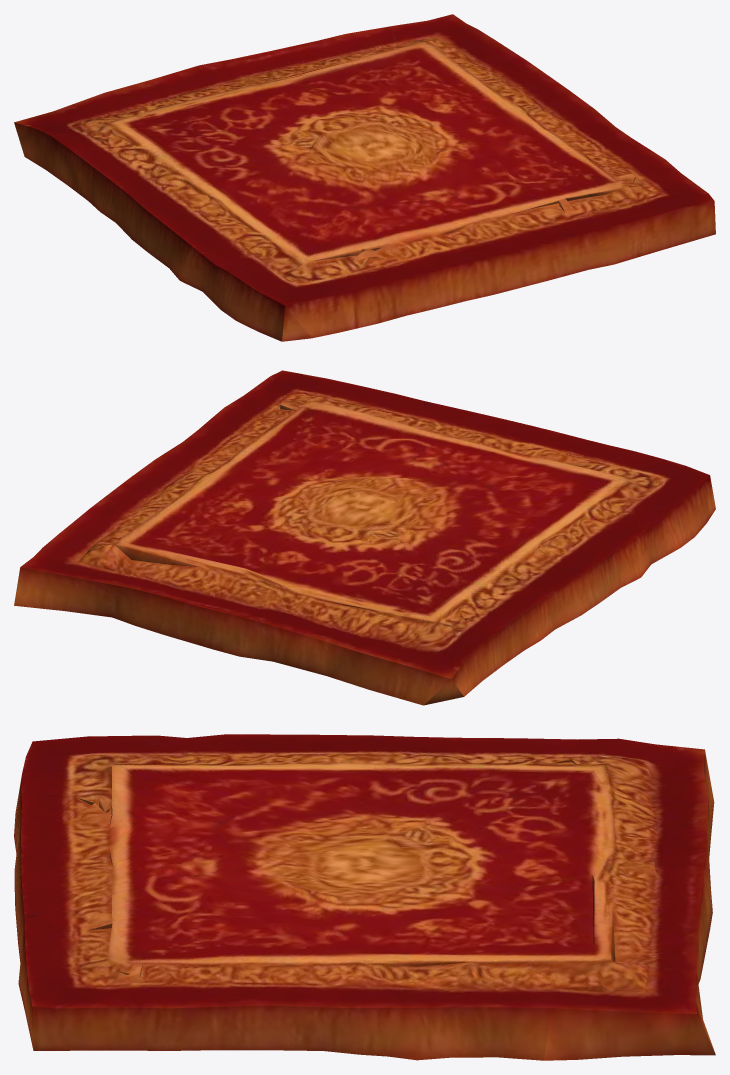
Rendered from magicCarpet.glb.
3 renders of one model, top to bottom at view 1: azimuth 30°, elevation 25°; view 2: azimuth 150°, elevation 25°; view 3: azimuth 270°, elevation 25°, orthographic. The views are drawn at different scales.
Parts seen in each view (by area): view 1: model; view 2: model; view 3: model.
Part boxes in pixels (box(x1,y1,x2,y2)): model: box(14, 14, 715, 341); model: box(14, 370, 715, 705); model: box(14, 734, 715, 1060).
Size of the model in its own units: 1.8 by 0.2102 by 1.9.
Materials: 1 (1 with a texture image).
